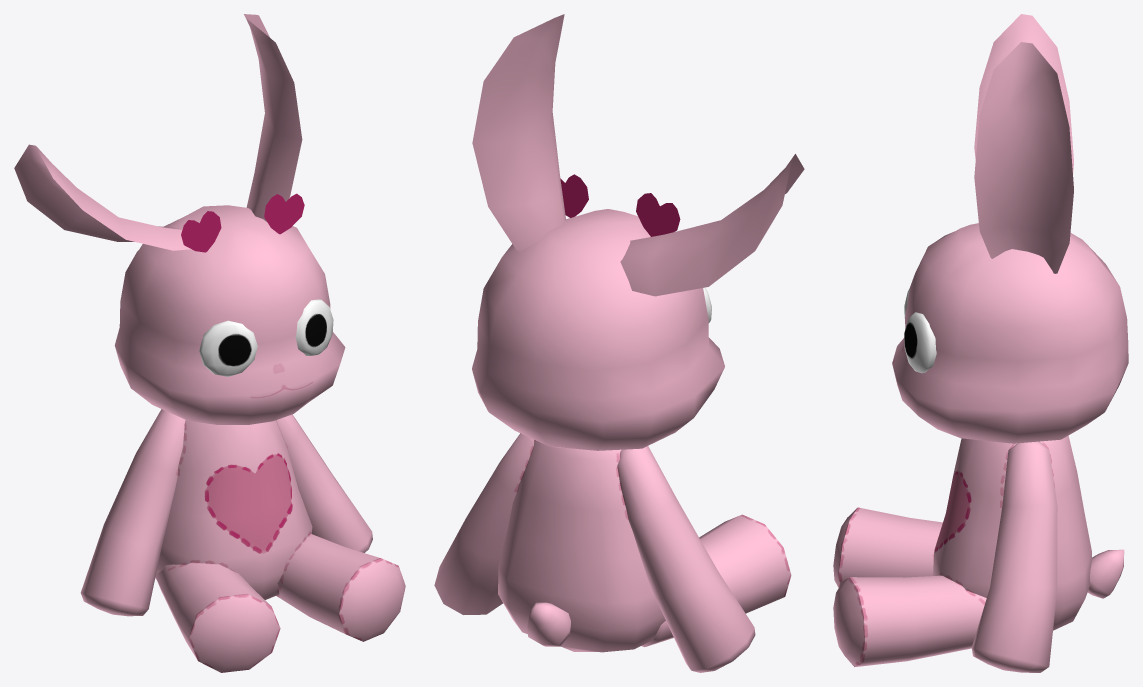
The model's file is Rabbit_Color.fbx.
3 renders of one model, left to right at view 1: azimuth 30°, elevation 25°; view 2: azimuth 150°, elevation 25°; view 3: azimuth 270°, elevation 25°, orthographic. The views are drawn at different scales.
Parts seen in each view (by area): view 1: Head; view 2: Head; view 3: Head.
Boxes of the visible parts, x1,y1,x2,y2 form: Head: (14, 14, 405, 672); Head: (434, 14, 804, 672); Head: (833, 14, 1128, 672).
Size of the model in its own units: 44.26 by 72.75 by 32.68.
Materials: 1 (1 with a texture image).
